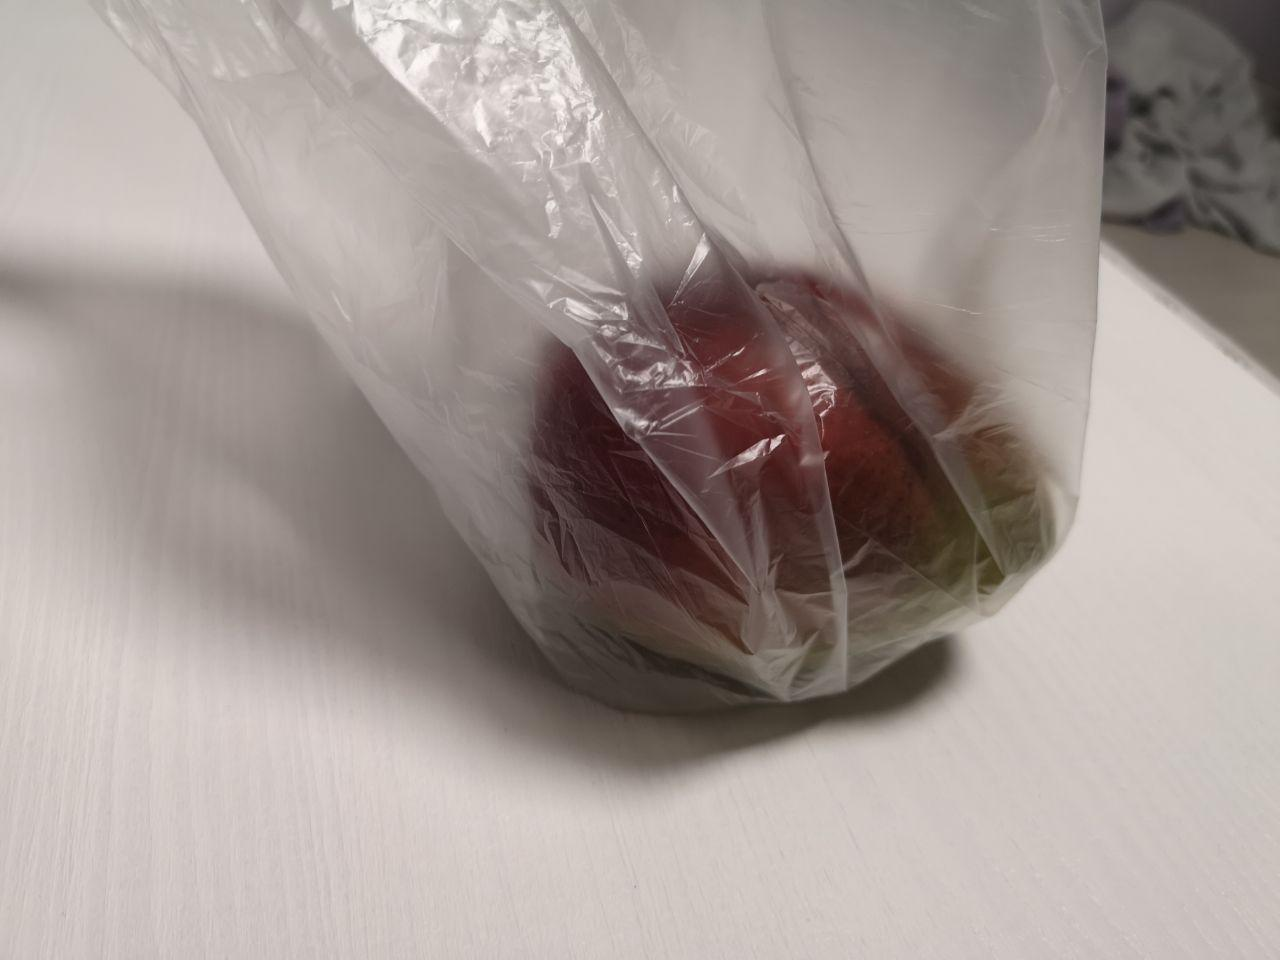mango: (419, 189, 1121, 798)
